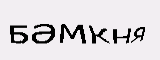Б: (8, 23, 30, 45)
К: (89, 24, 109, 46)
М: (59, 23, 87, 45)
Н: (111, 27, 132, 45)
Я: (129, 25, 145, 45)
Ә: (31, 23, 56, 45)
